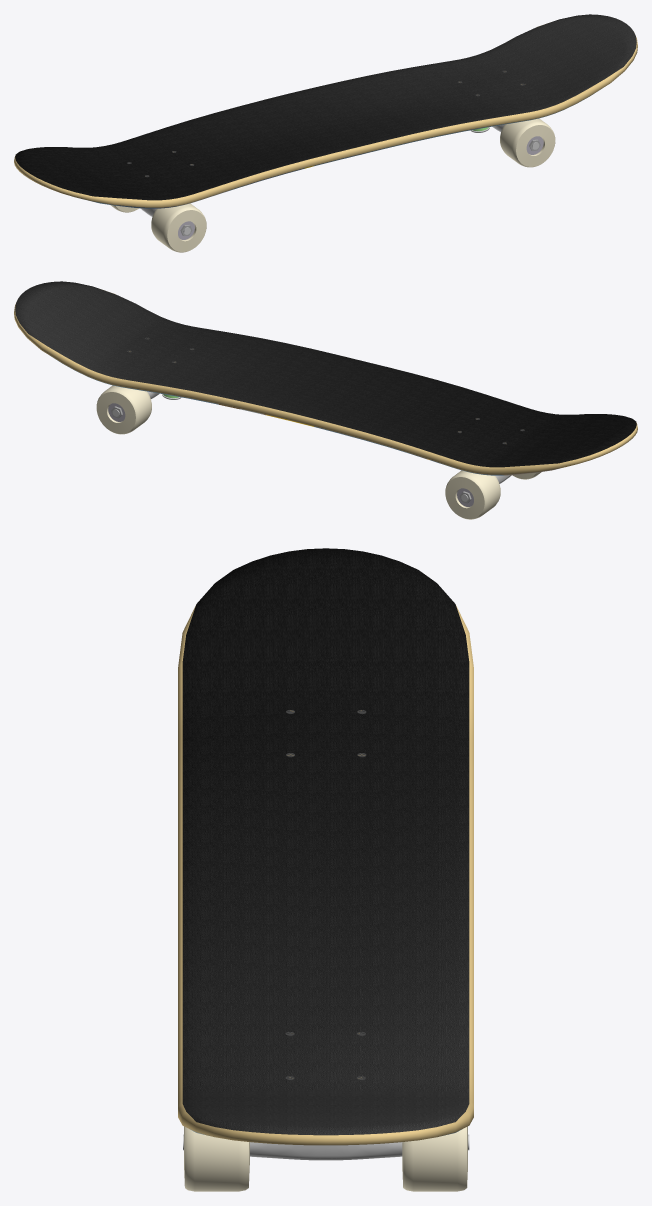
The model's file is skateboard.glb.
3 renders of one model, top to bottom at view 1: azimuth 30°, elevation 25°; view 2: azimuth 150°, elevation 25°; view 3: azimuth 270°, elevation 25°, orthographic. The views are drawn at different scales.
Visible parts, largest first — view 1: Object_9; view 2: Object_9; view 3: Object_9.
Part boxes in pixels (x1,y1,x2,y2): Object_9: (14, 14, 637, 252); Object_9: (14, 281, 637, 519); Object_9: (178, 548, 473, 1191).
Size of the model in its own units: 4.87 by 0.6754 by 1.04.
Materials: 9 (2 with a texture image).
